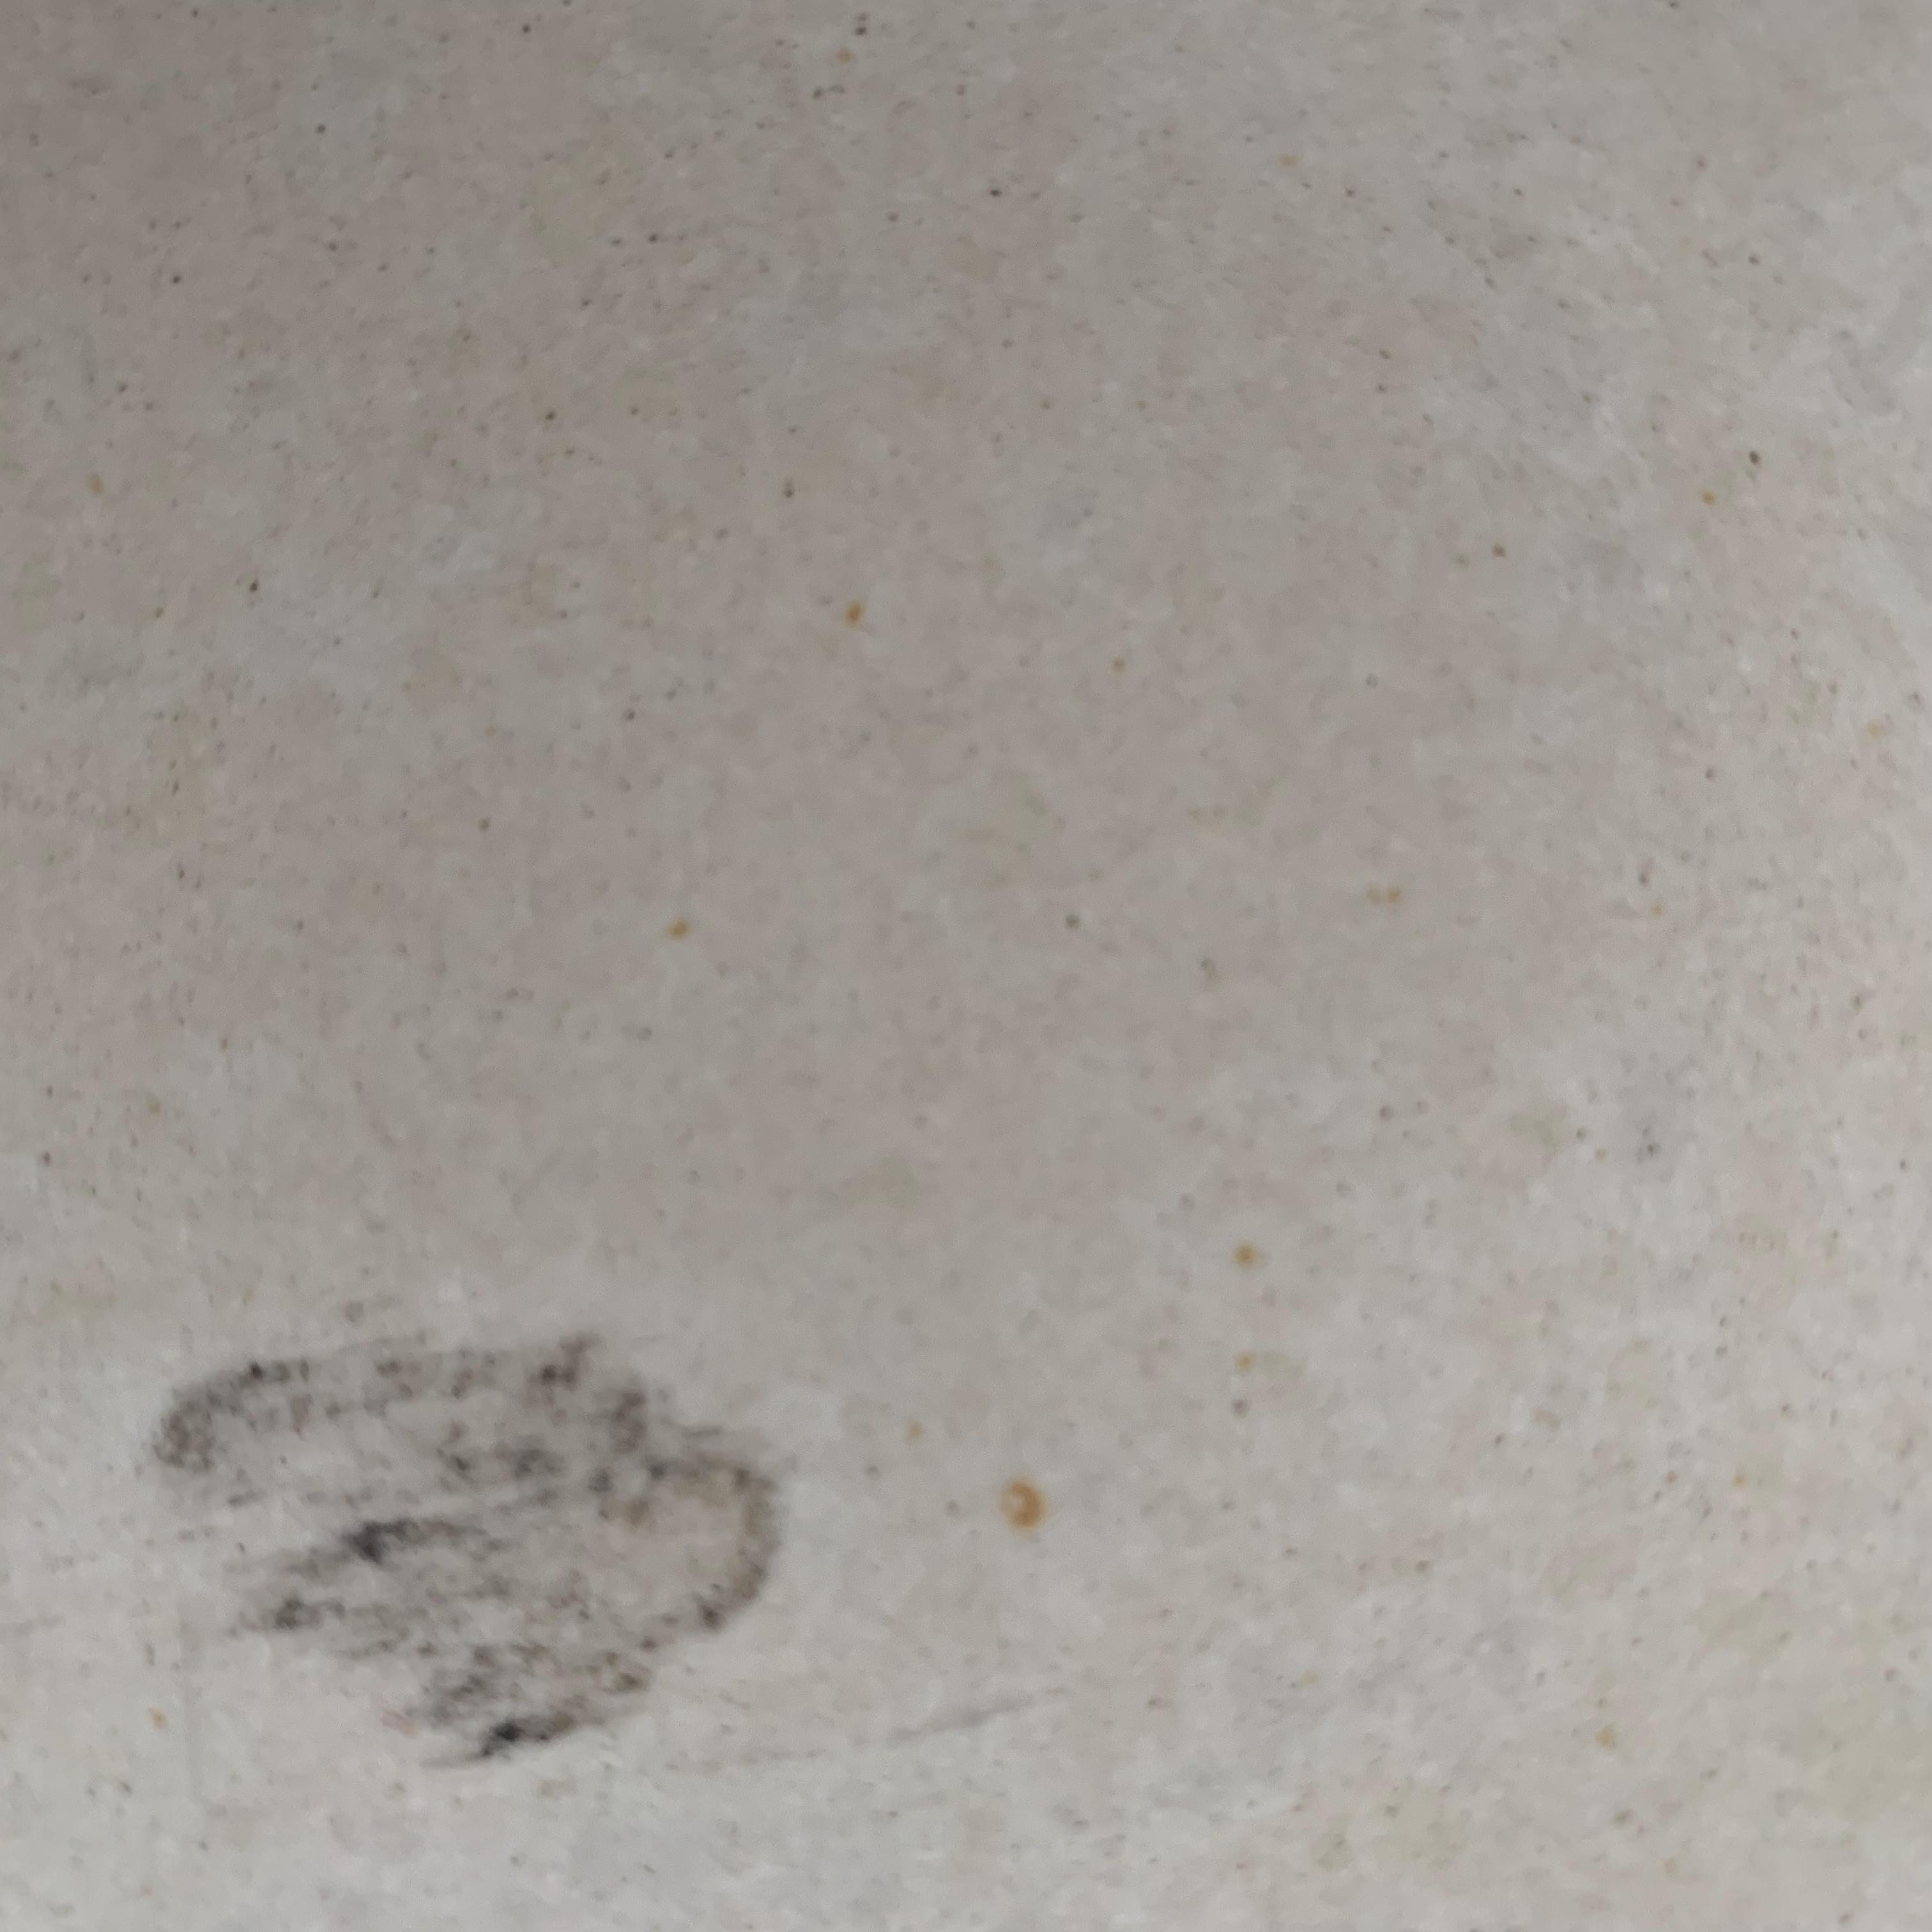grey spot: (147, 1341, 789, 1771)
